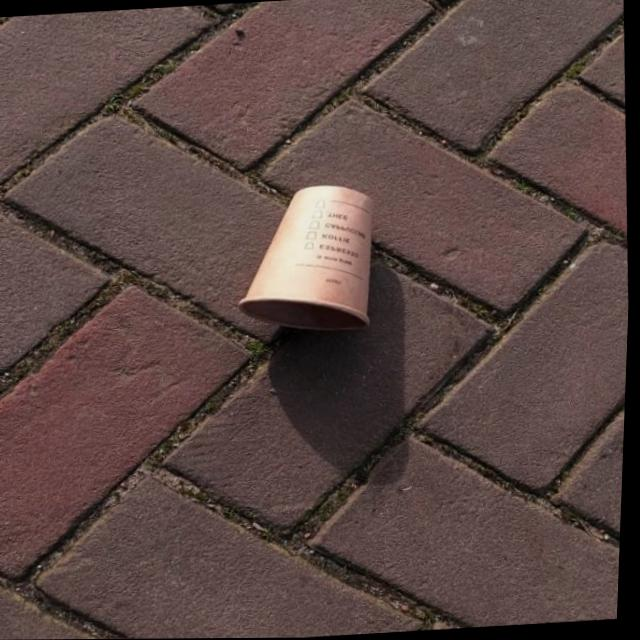Cup: (228, 178, 389, 341)
